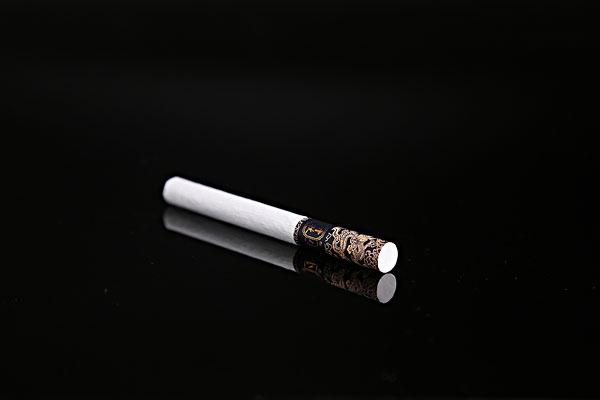smoke: (160, 176, 400, 273), (163, 205, 397, 304)
